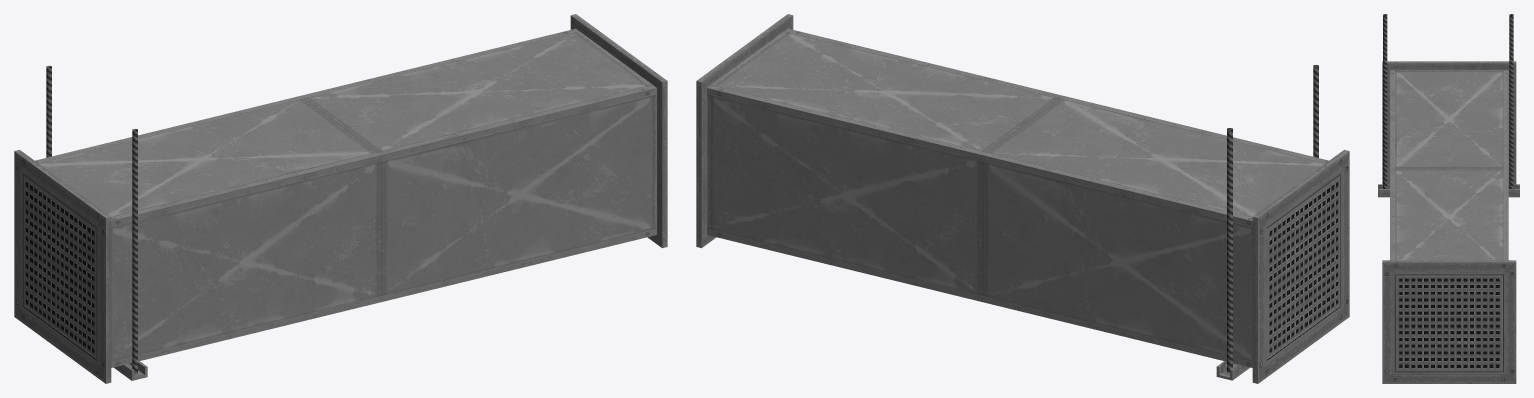
The model's file is HH_Ventilation_2m_01.fbx.
3 renders of one model, left to right at view 1: azimuth 30°, elevation 25°; view 2: azimuth 150°, elevation 25°; view 3: azimuth 270°, elevation 25°, orthographic. The views are drawn at different scales.
Parts seen in each view (by area): view 1: HH_Ventilation_2m_01; view 2: HH_Ventilation_2m_01; view 3: HH_Ventilation_2m_01.
Boxes of the visible parts, x1,y1,x2,y2 form: HH_Ventilation_2m_01: (14,14,667,383); HH_Ventilation_2m_01: (696,14,1349,383); HH_Ventilation_2m_01: (1378,14,1519,383).
Size of the model in its own units: 200 by 83.44 by 59.65.
